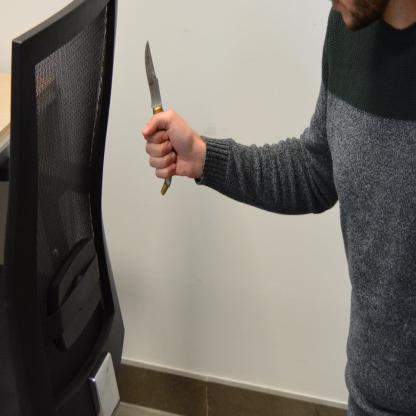knife: (140, 35, 180, 195)
